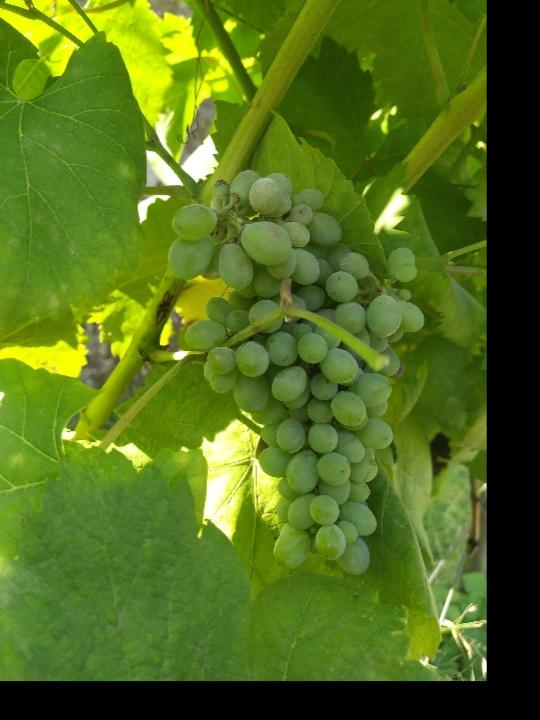grape: (166, 172, 426, 577)
